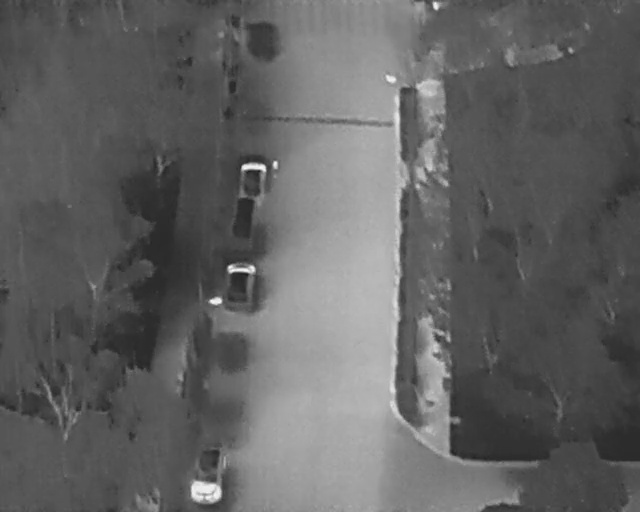Car: (188, 444, 228, 506), (220, 259, 259, 314), (236, 157, 269, 205)
Person: (271, 160, 282, 180)
